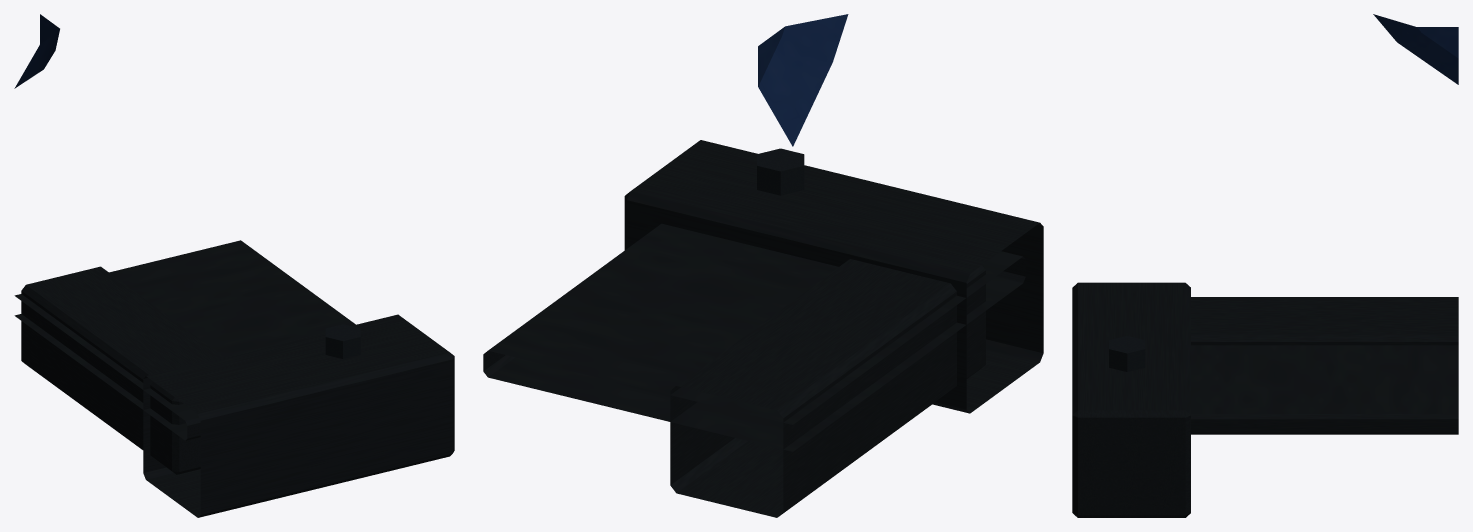
The model's file is cell_23.obj.
3 renders of one model, left to right at view 1: azimuth 30°, elevation 25°; view 2: azimuth 150°, elevation 25°; view 3: azimuth 270°, elevation 25°, orthographic. The views are drawn at different scales.
Visible parts, largest first — view 1: cell_23; view 2: cell_23; view 3: cell_23.
Part boxes in pixels (x1,y1,x2,y2): cell_23: (14, 14, 454, 517); cell_23: (483, 14, 1043, 517); cell_23: (1072, 14, 1458, 517).
Bounding box in the file's own units: 0.74 × 1 × 0.93.
